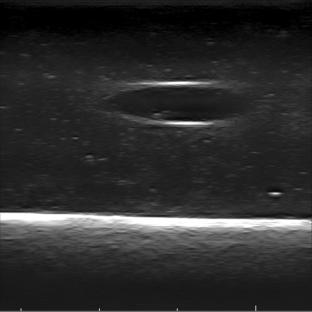vessel: (110, 81, 247, 128)
